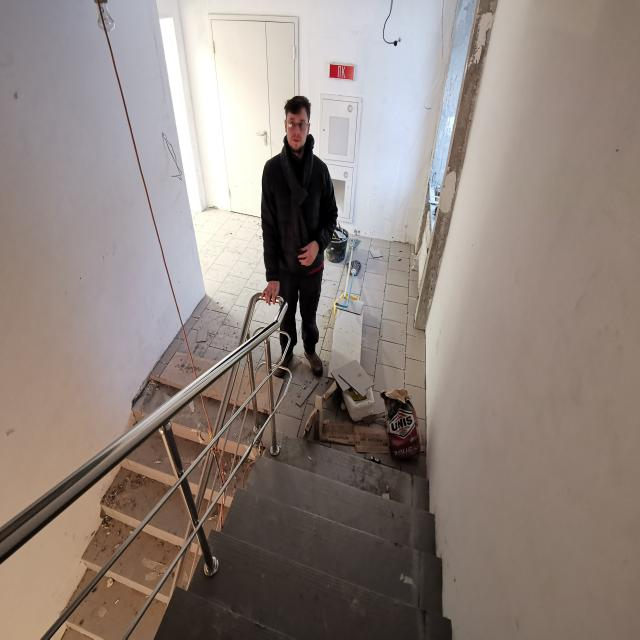NoHelmet: (285, 97, 313, 151)
